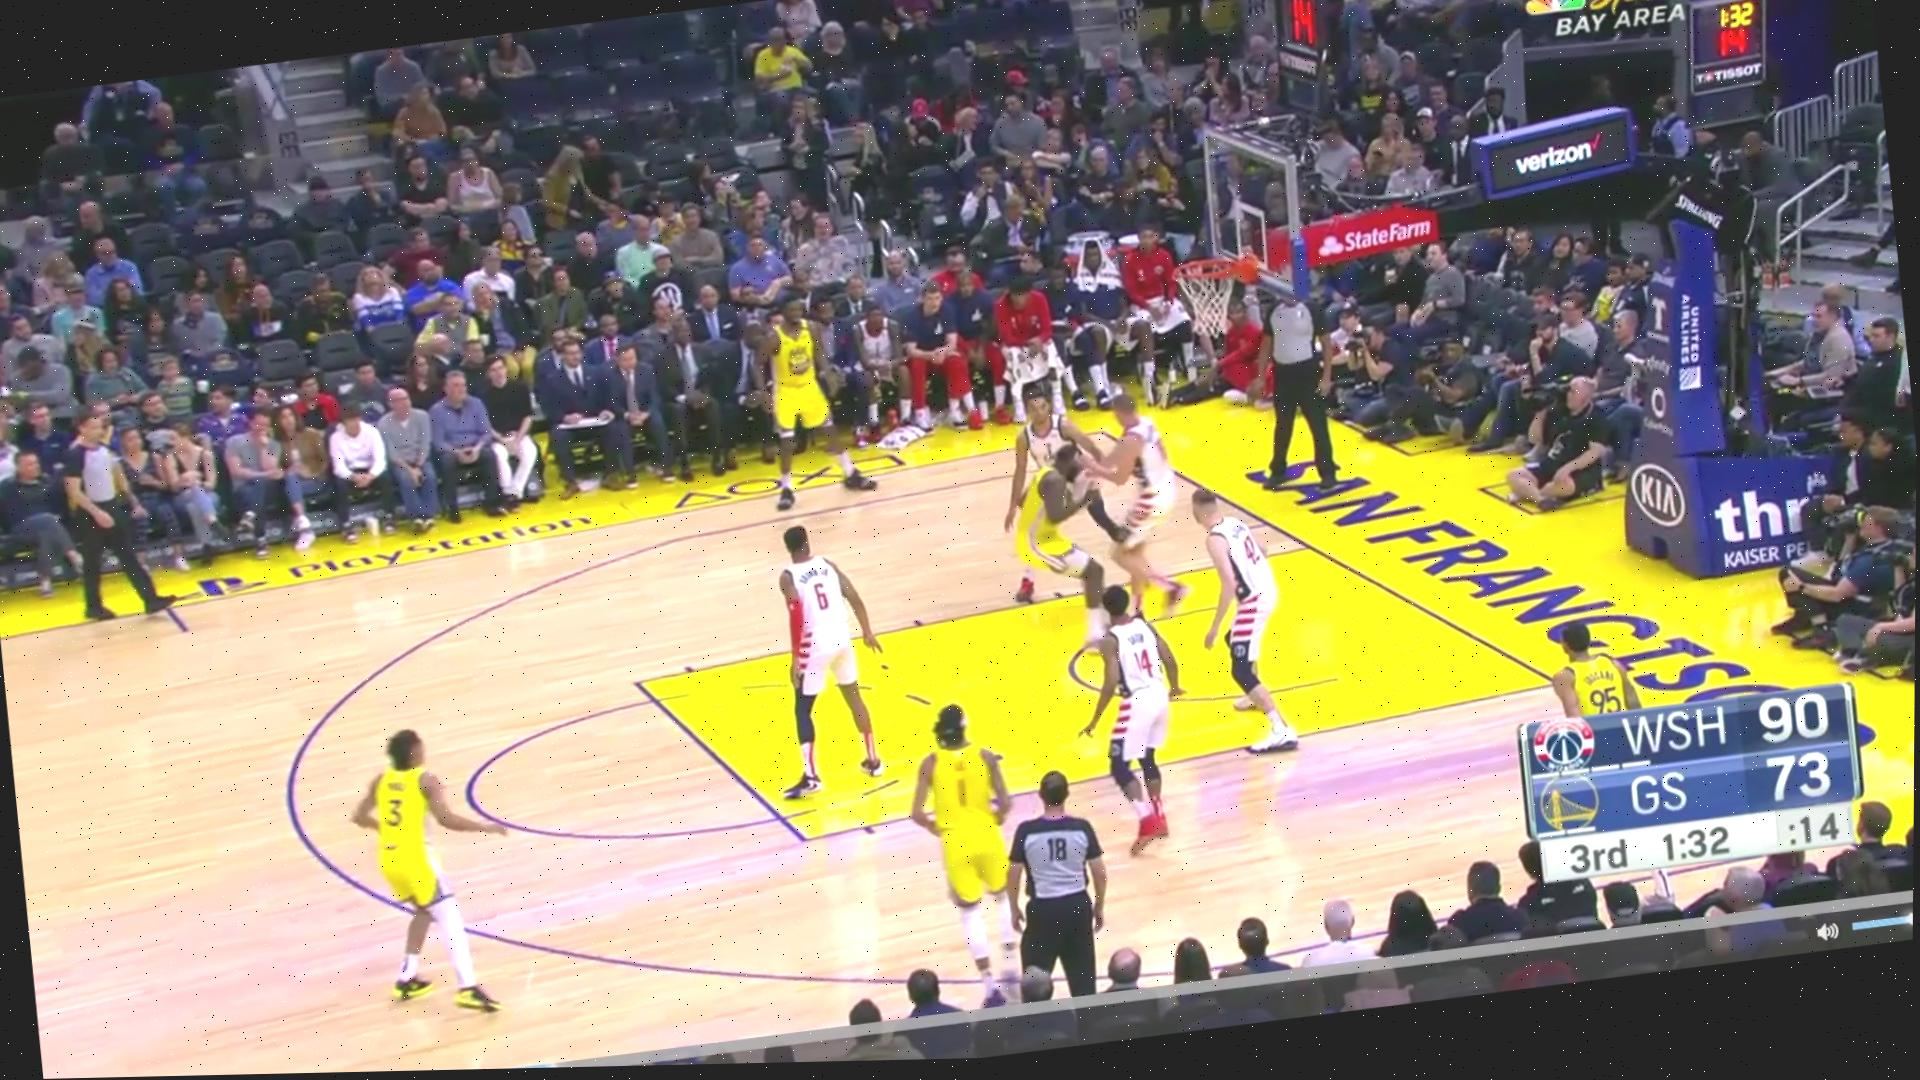foul: (1007, 384, 1199, 629)
